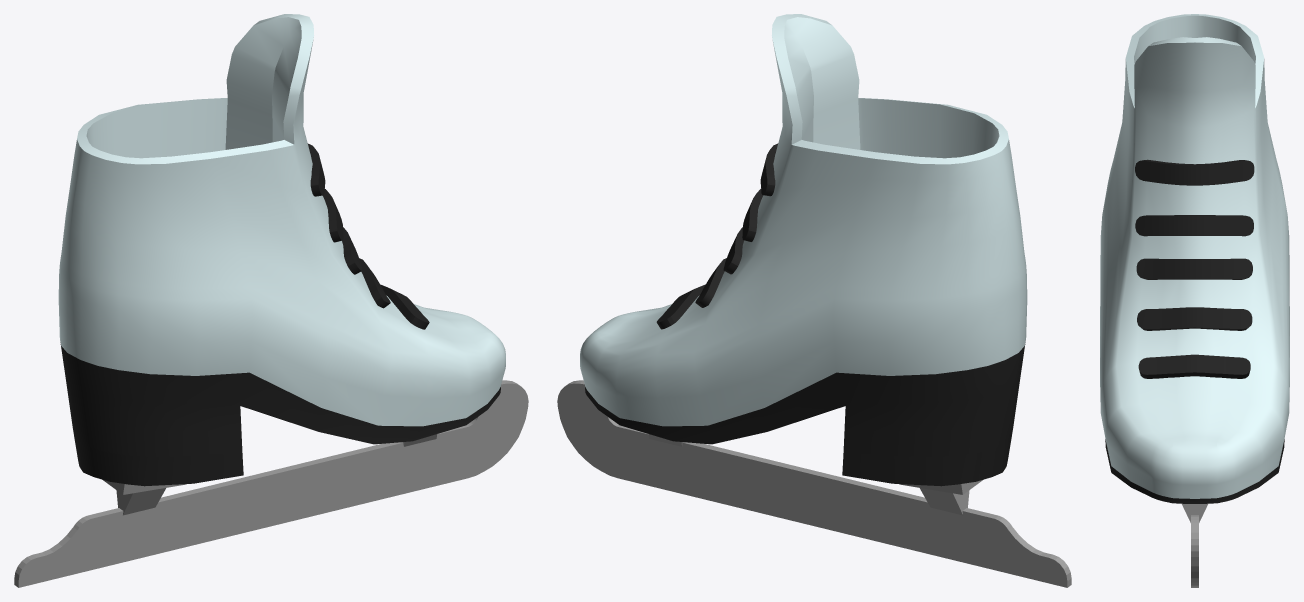
The model's file is ice_skate.gltf.
3 views of the same model, side by side, from view 1: azimuth 30°, elevation 25°; view 2: azimuth 150°, elevation 25°; view 3: azimuth 270°, elevation 25° (orthographic). The views are drawn at different scales.
Parts seen in each view (by area): view 1: Plane.307; view 2: Plane.307; view 3: Plane.307.
Boxes of the visible parts, box(x1,y1,x2,y2) form: Plane.307: box(14, 14, 528, 587); Plane.307: box(557, 14, 1071, 587); Plane.307: box(1100, 14, 1289, 587).
Size of the model in its own units: 2.29 by 2.13 by 0.7845.
Materials: 1 (1 with a texture image).
